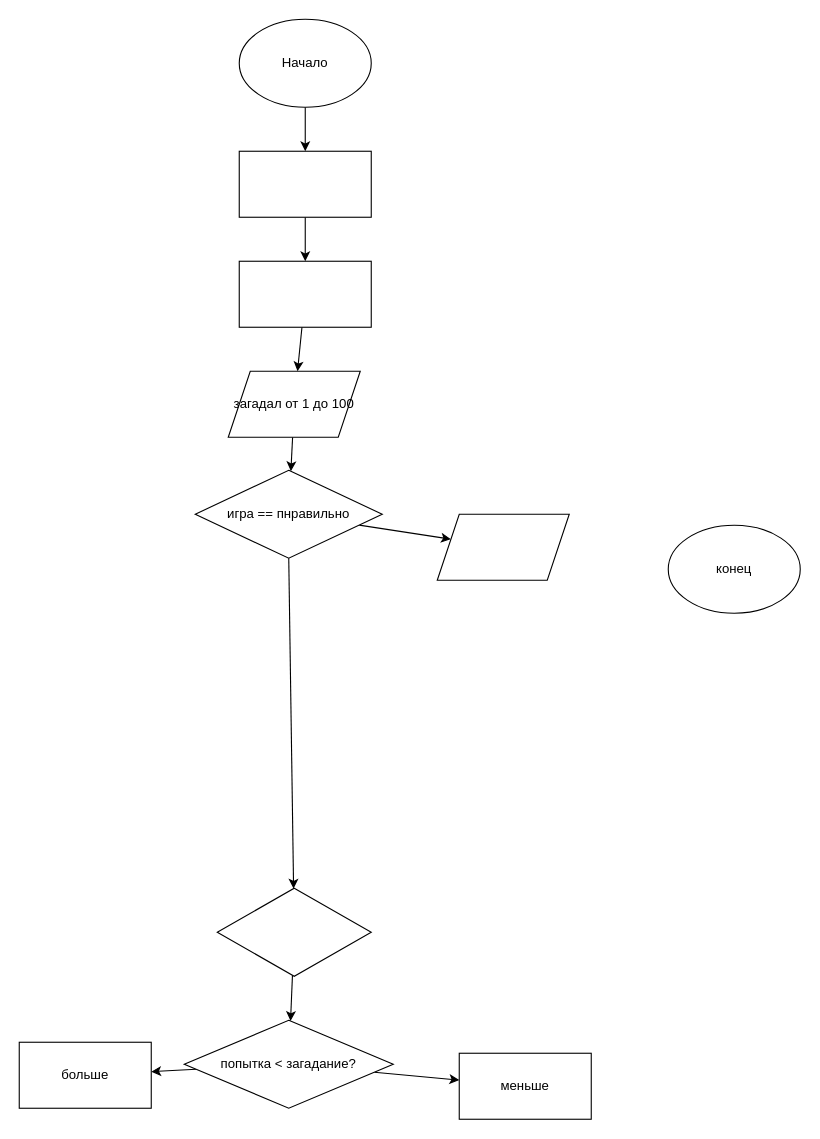
Image size: 820x1139. Some labels were removed from this diagram. Each missing label, with the centre of its shape:
"попытка" belongs at [293,931].
"попытка = 0" belongs at [304,183].
"рандом 1,100" belongs at [304,293].
"спасибо за игру" belongs at [502,546].
